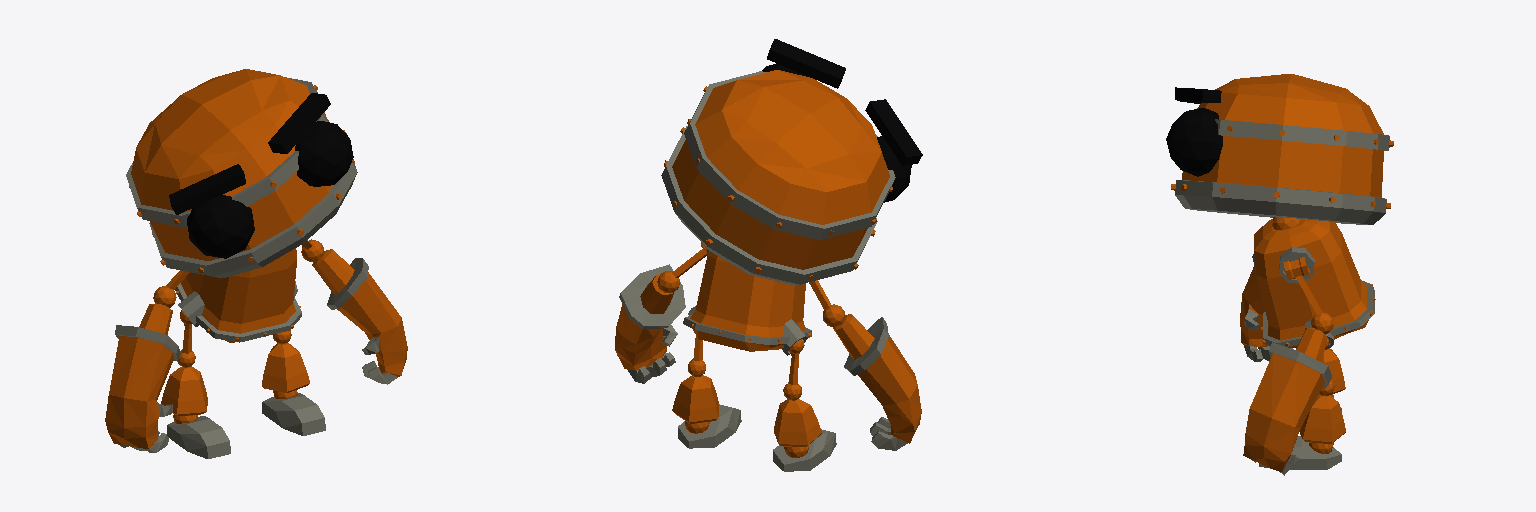
3 views of the same model, side by side, from view 1: azimuth 30°, elevation 25°; view 2: azimuth 150°, elevation 25°; view 3: azimuth 270°, elevation 25° (orthographic).
Visible parts, largest first — view 1: Main, Grey, Black; view 2: Main, Grey, Black; view 3: Main, Grey, Black.
Part boxes in pixels (bbox=[...]): Main: bbox=[105, 69, 407, 448]; Grey: bbox=[115, 77, 397, 458]; Black: bbox=[169, 93, 353, 258]; Main: bbox=[615, 70, 921, 457]; Grey: bbox=[619, 71, 907, 471]; Black: bbox=[762, 39, 922, 202]; Main: bbox=[1171, 74, 1393, 471]; Grey: bbox=[1175, 119, 1389, 475]; Black: bbox=[1166, 87, 1222, 176].
Size of the model in its own units: 1.7 by 2 by 1.14.